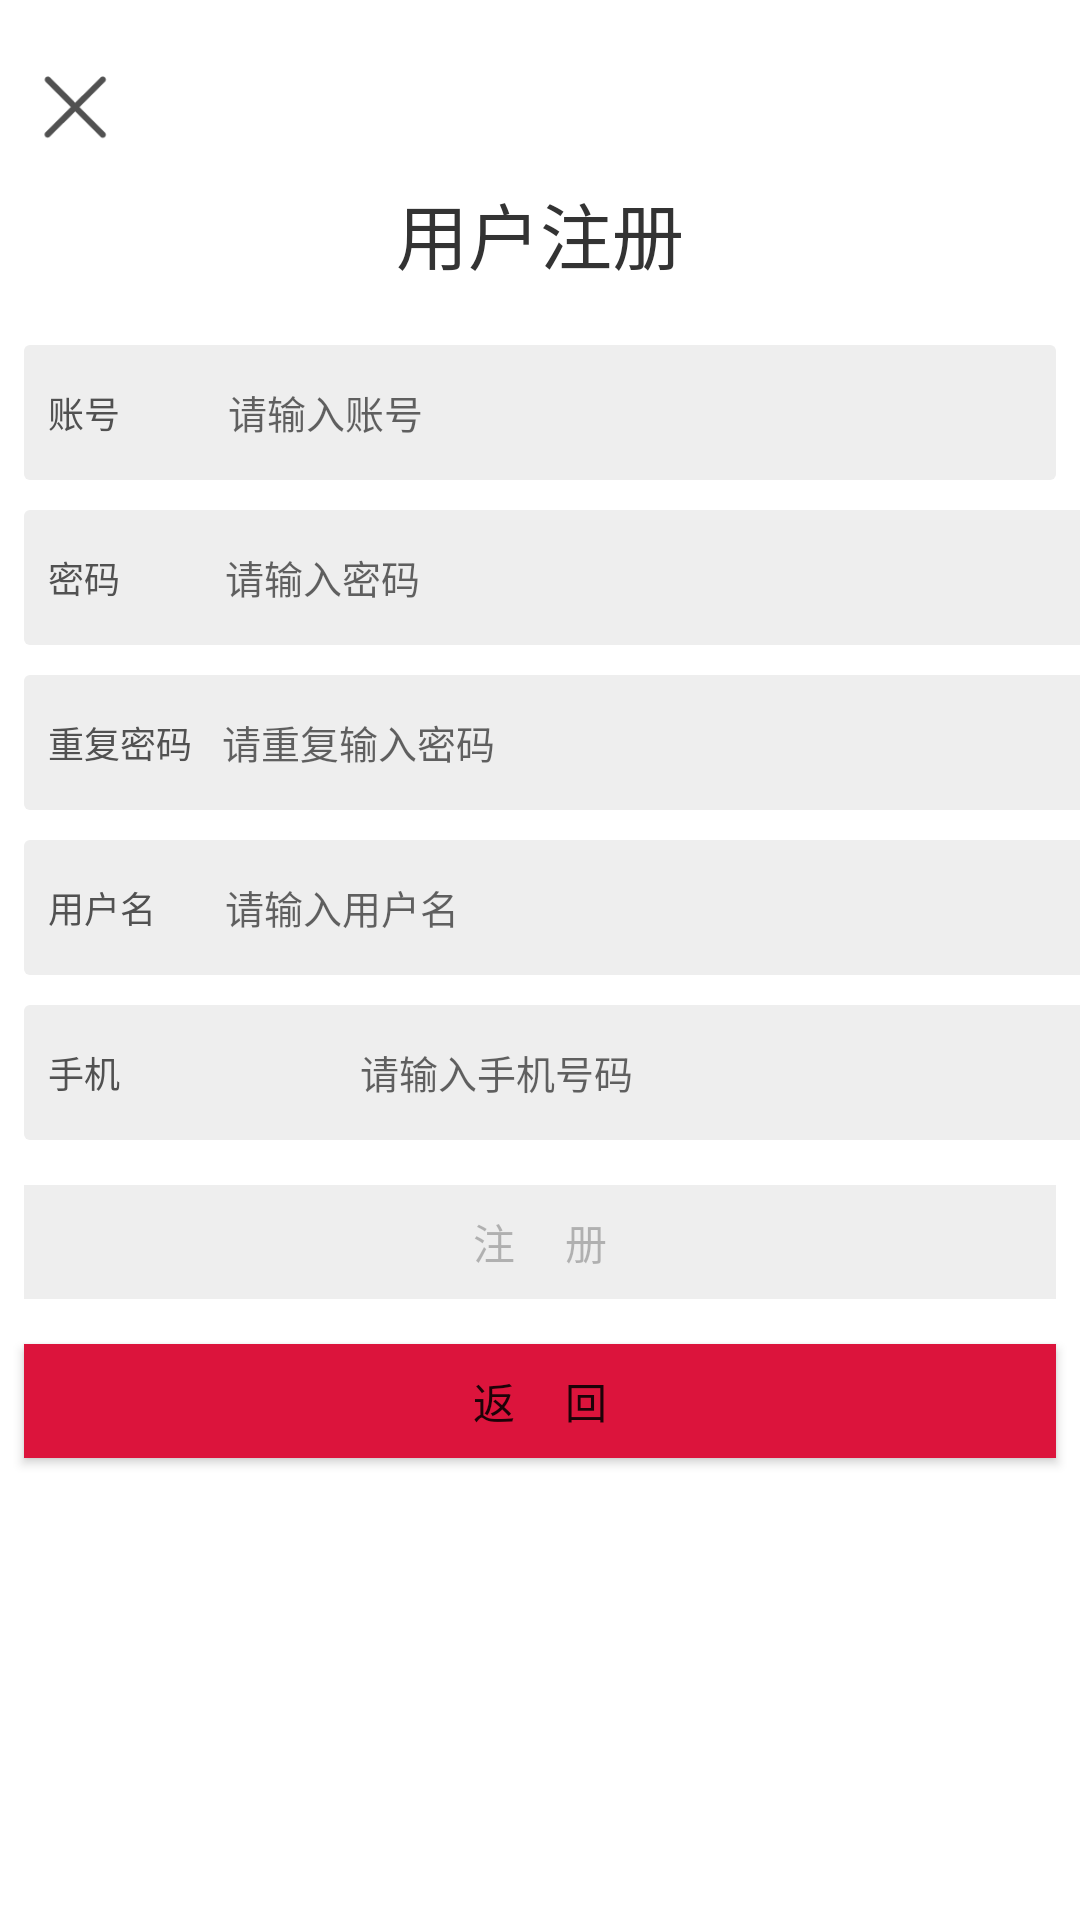

Screen size 1080px x 1920px. Icon name, then its center in pixels as (x,y):
close: (75,107)
